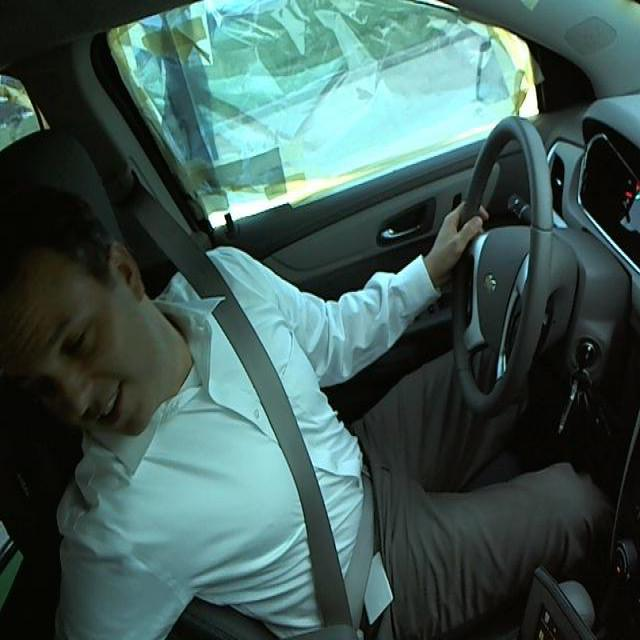seatbelt: (176, 278, 378, 634)
